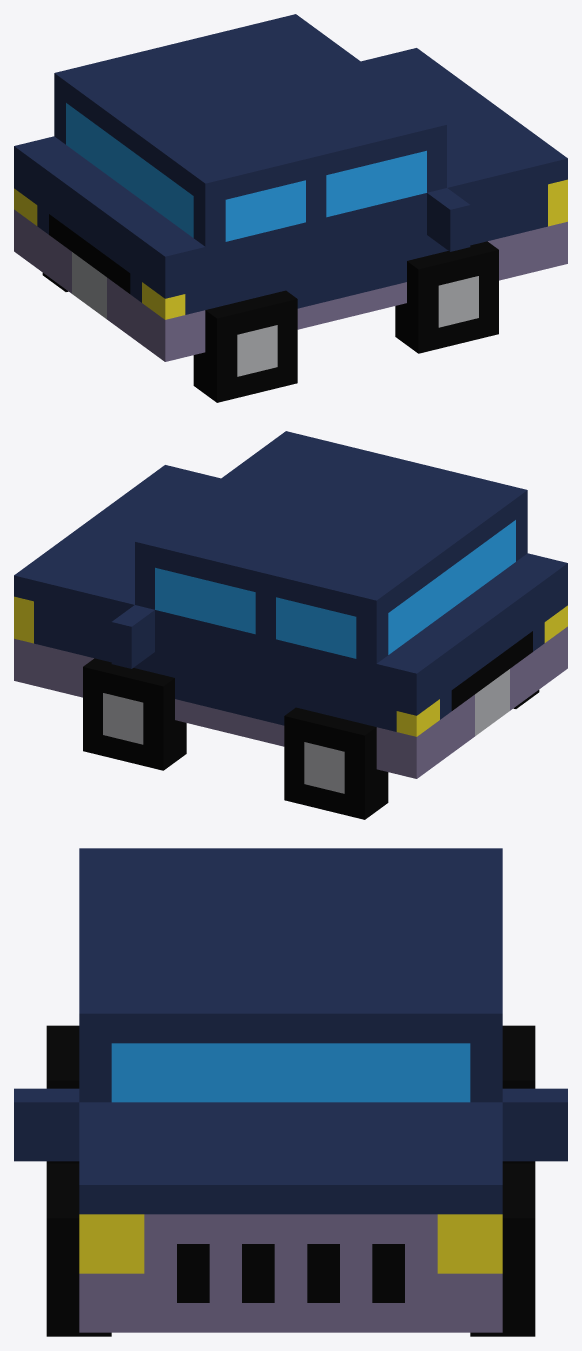
Rendered from car_c.obj.
3 renders of one model, top to bottom at view 1: azimuth 30°, elevation 25°; view 2: azimuth 150°, elevation 25°; view 3: azimuth 270°, elevation 25°, orthographic. The views are drawn at different scales.
Size of the model in its own units: 2 by 1 by 1.7.
Materials: 1 (1 with a texture image).
